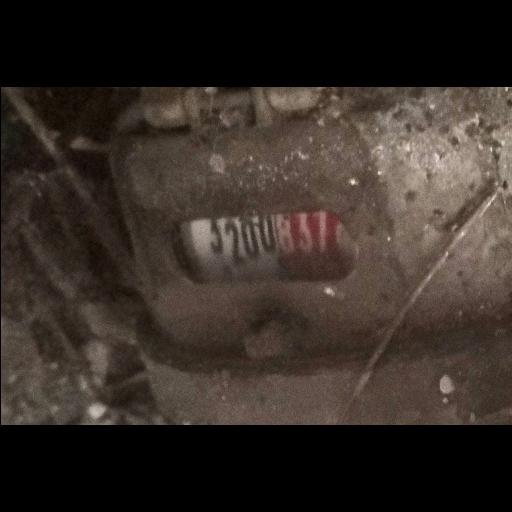0: (237, 215, 265, 284), (255, 214, 283, 283)
2: (219, 216, 247, 285)
3: (290, 210, 318, 279), (201, 217, 229, 285)
7: (308, 208, 336, 277)
8: (273, 212, 301, 281)
border_water_meter_number: (169, 208, 358, 286)
